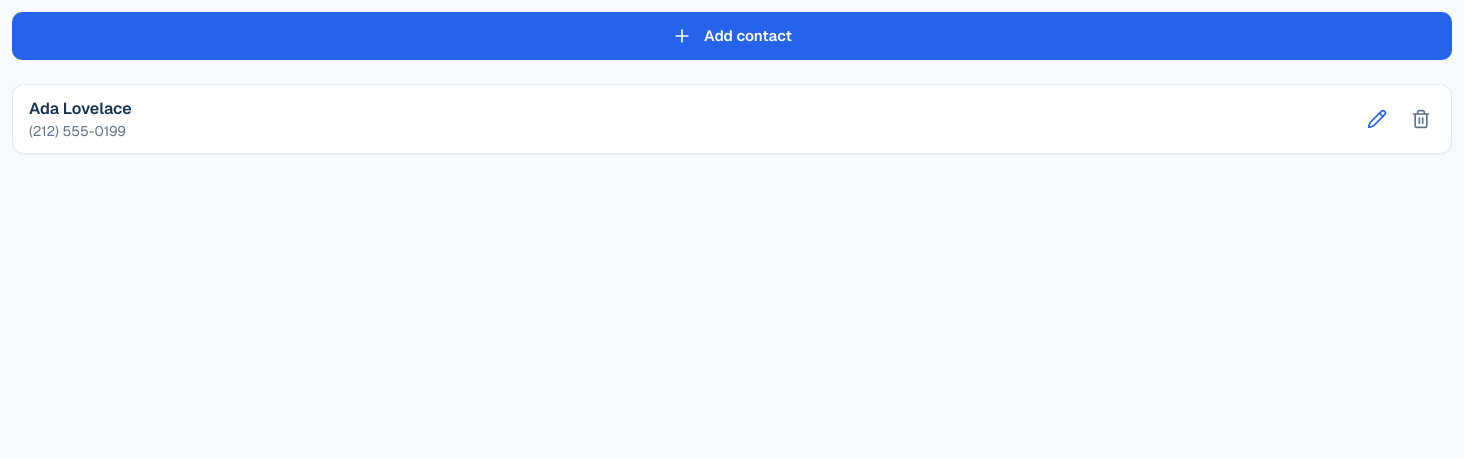
Scenario: ContactManager › loads a saved contact for editing and saves the changes
This screenshot has width=1464, height=459.
Click the button "Ada Lovelace (212) 555-0199" at coordinates (80, 108), box [13,85,1355,153]
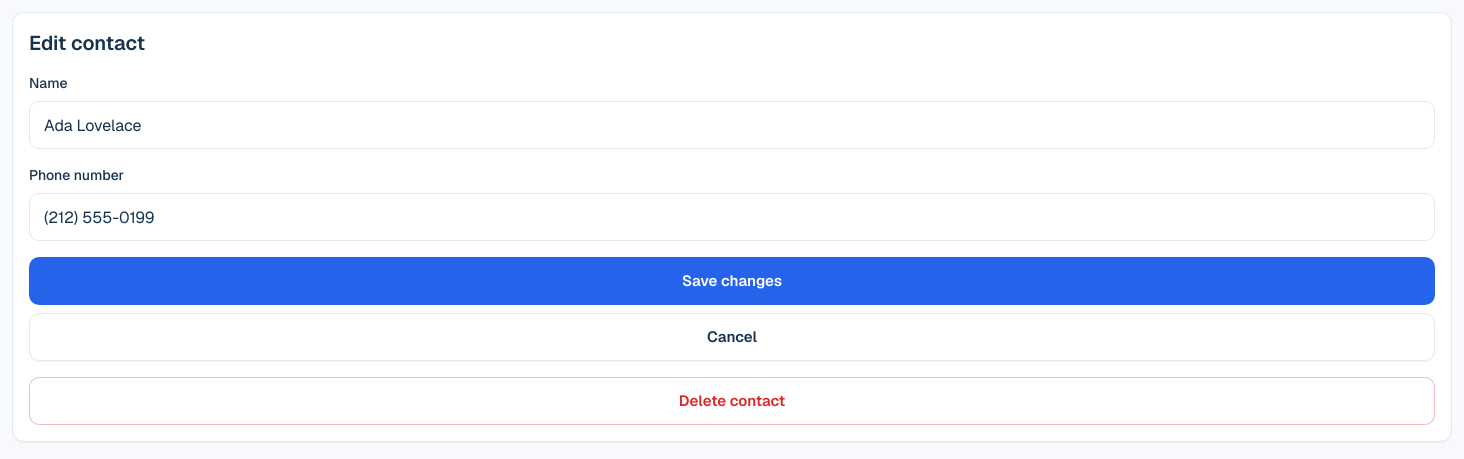
Expected: the field labelled "Phone number" holds "(212) 555-0199", [29,193,1435,241]
Replace the text in the field labelled "Name" with "Grace Hopper" at coordinates (732, 125), box [29,101,1435,149]
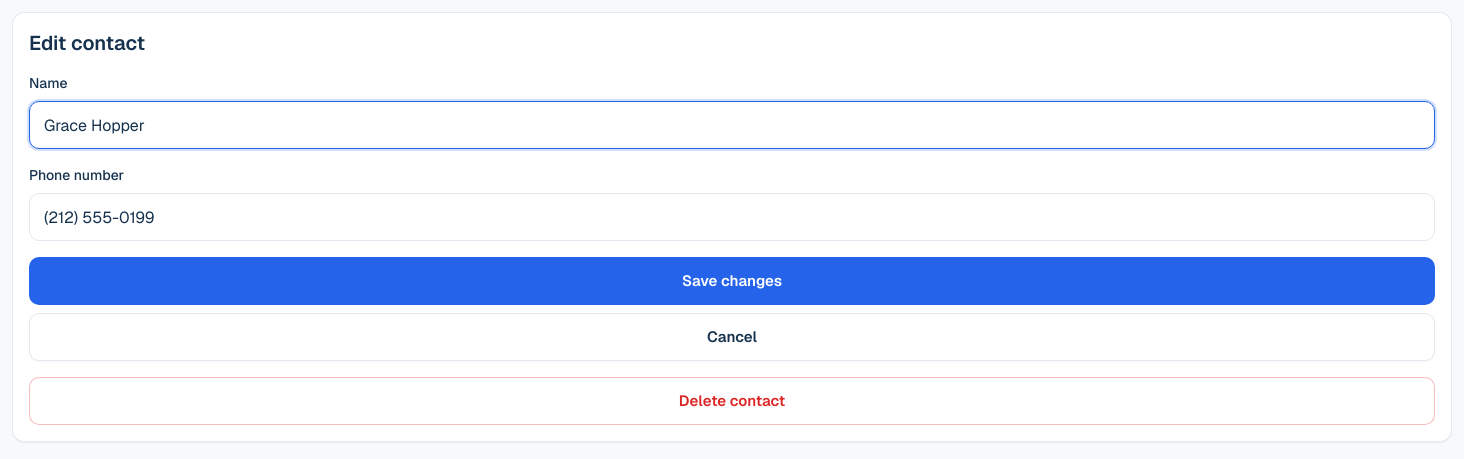
Replace the text in the field labelled "Phone number" with "4155550100" at coordinates (732, 217), box [29,193,1435,241]
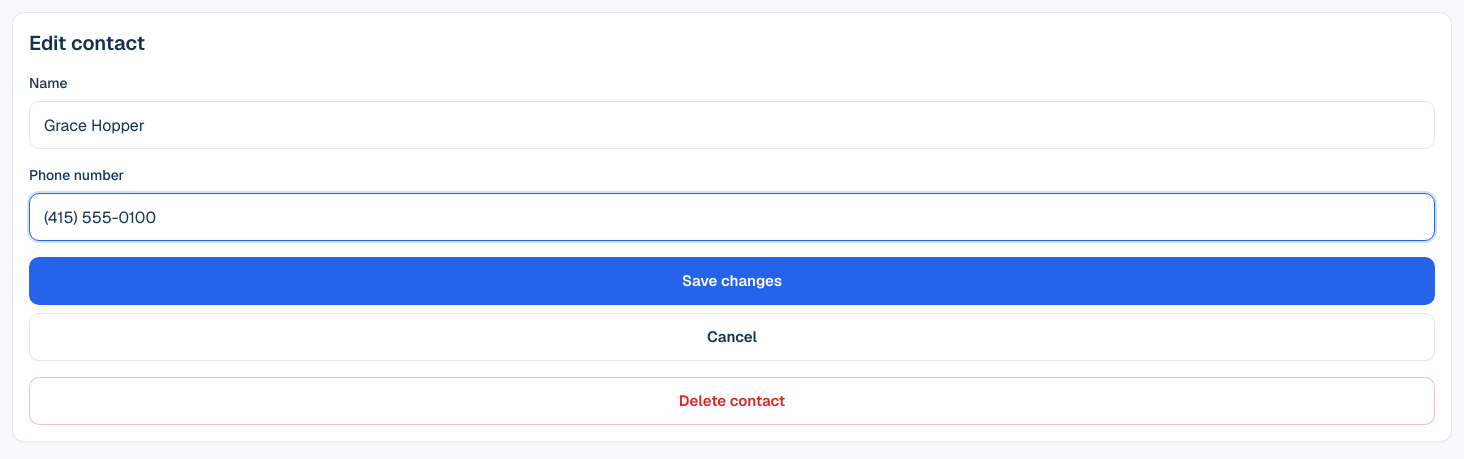
Click the button "Save changes" at coordinates (732, 281), box [29,257,1435,305]
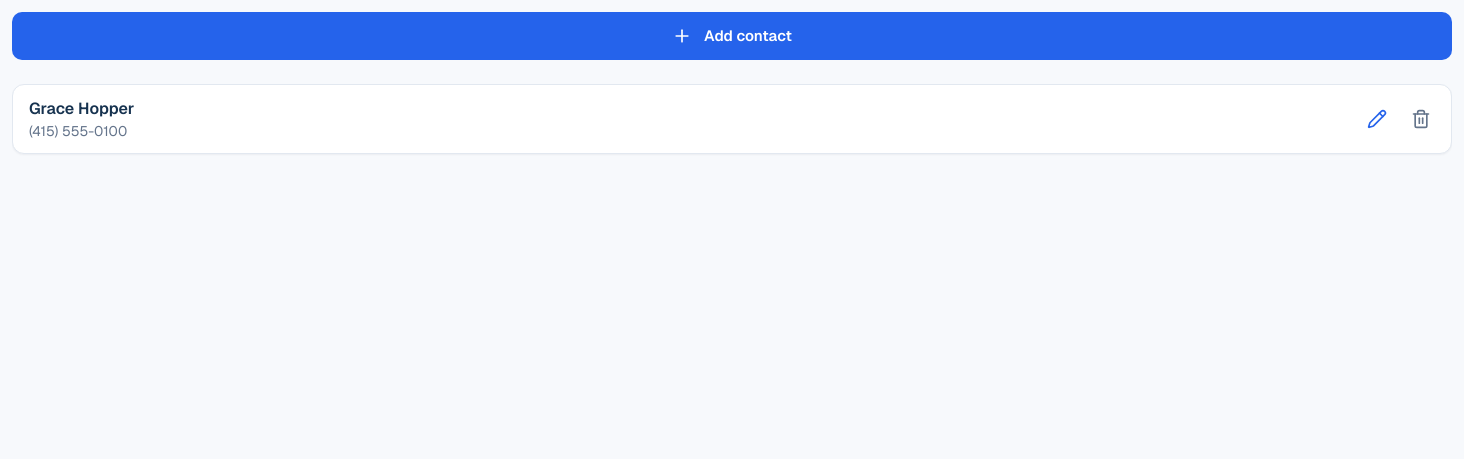
Expected: the text "Grace Hopper" is shown, [29,98,134,119]
Expected: the text "(415) 555-0100" is shown, [29,122,127,140]
